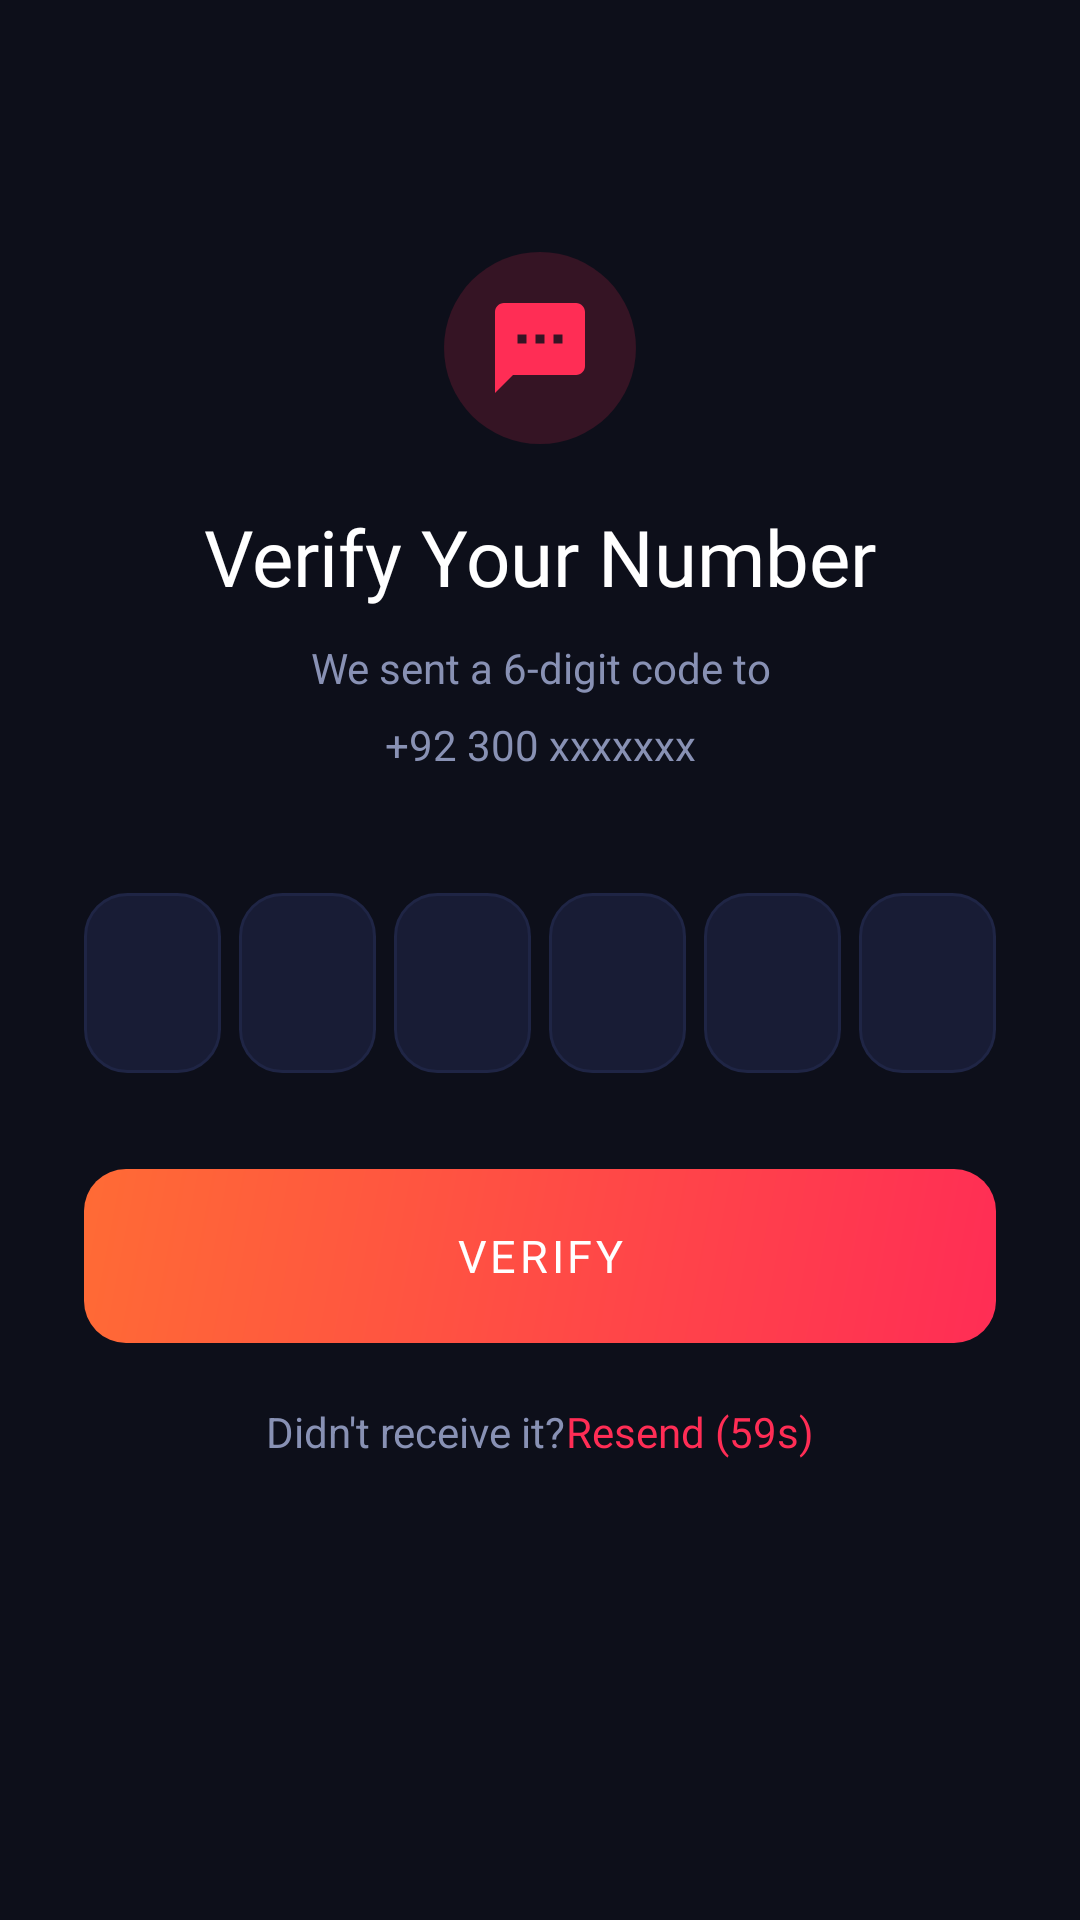

Point at icon controls on the screen. Image size 1080w x 1920h, points as point (x, y).
sms verify: point (540, 348)
